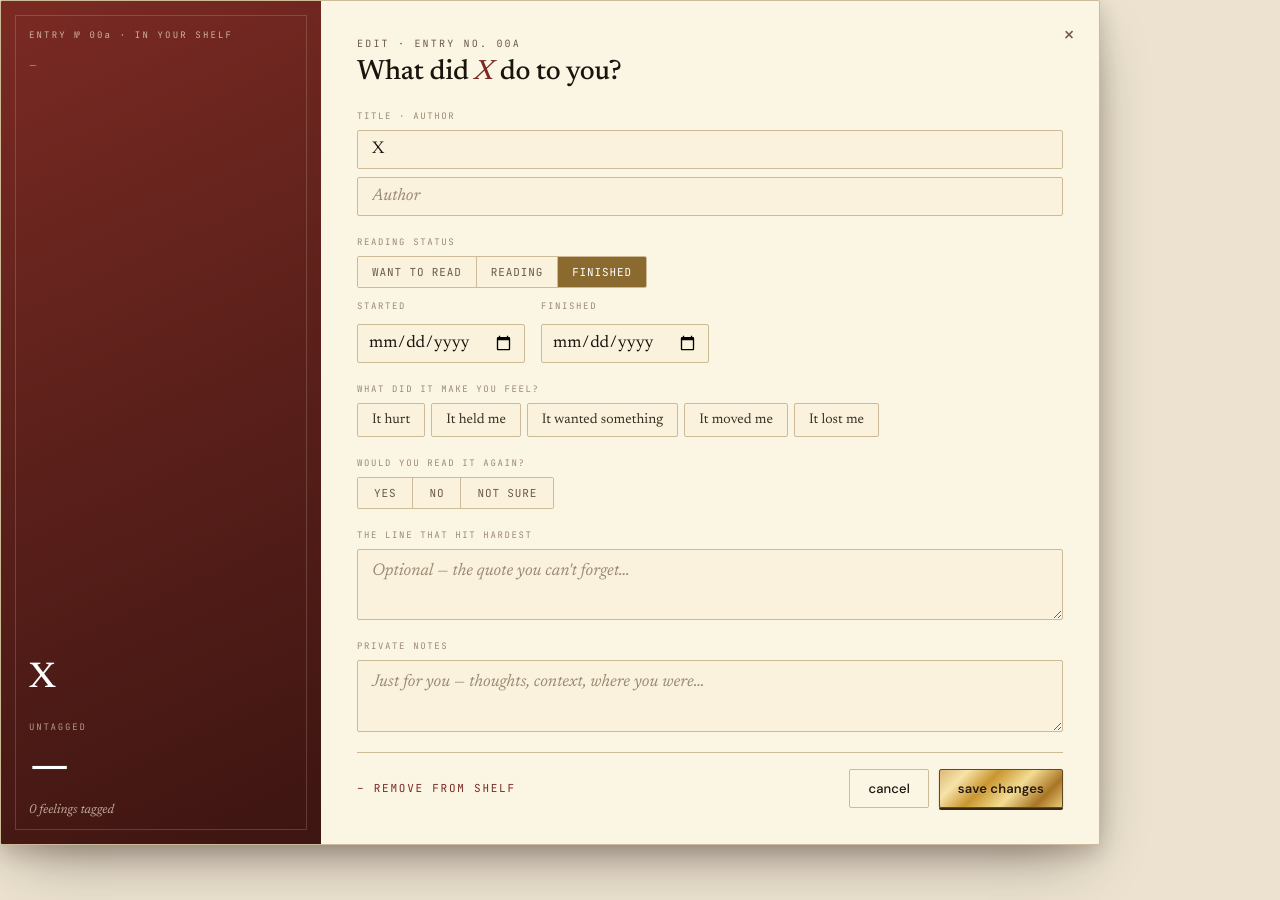
Test: EntryModal new vocabulary + per-emotion intensity [Part A/B/C] › renders the five family doors and reveals emotions only on tap
Expected: the button "It lost me" is shown, [794, 403, 879, 437]
Expected: the button "it wrecked me" is not shown
Step 1. Click the button "It hurt" → (391, 420), box [357, 403, 425, 437]
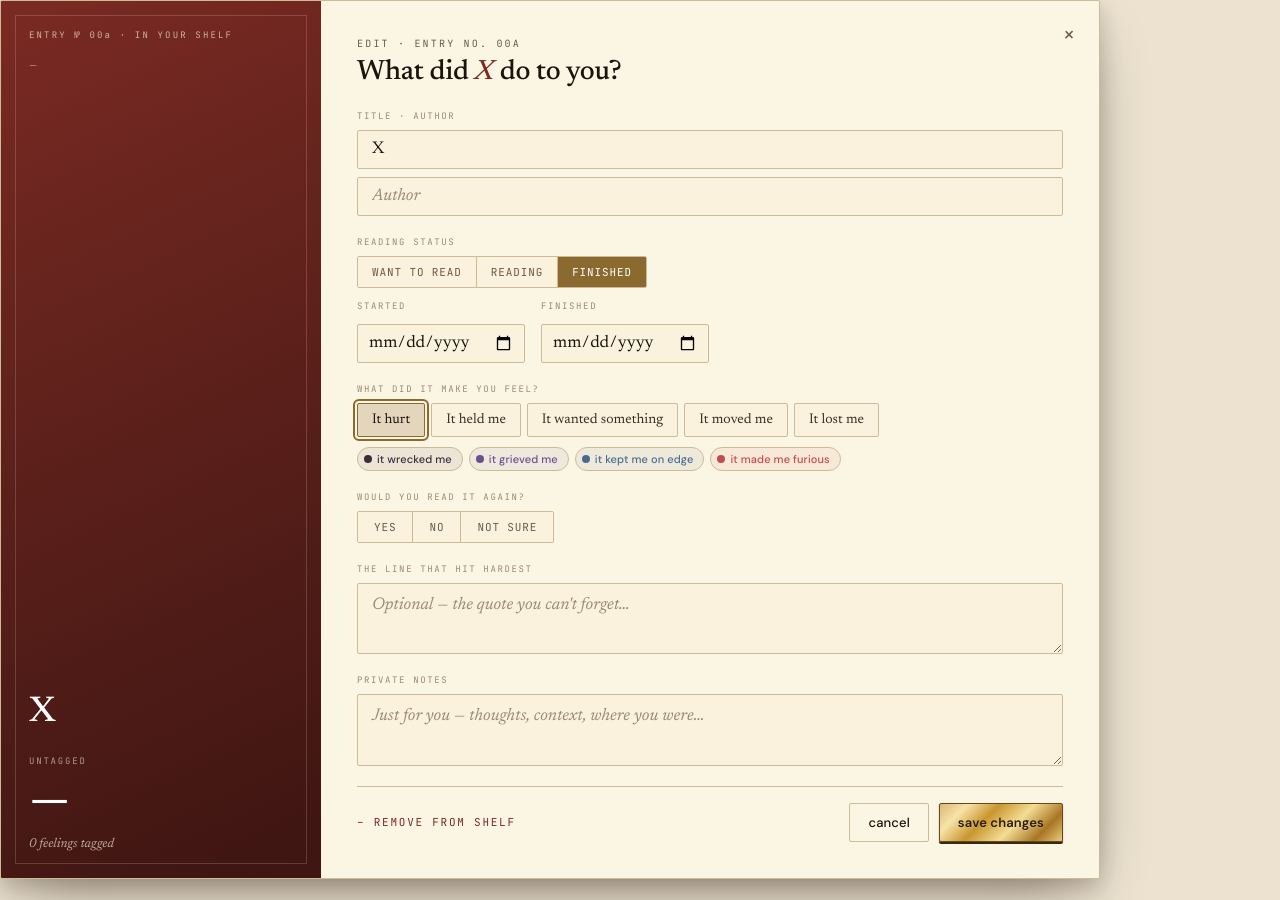
Expected: the button "it wrecked me" is shown, [357, 447, 463, 471]
Expected: the button "it grieved me" is shown, [469, 447, 569, 471]
